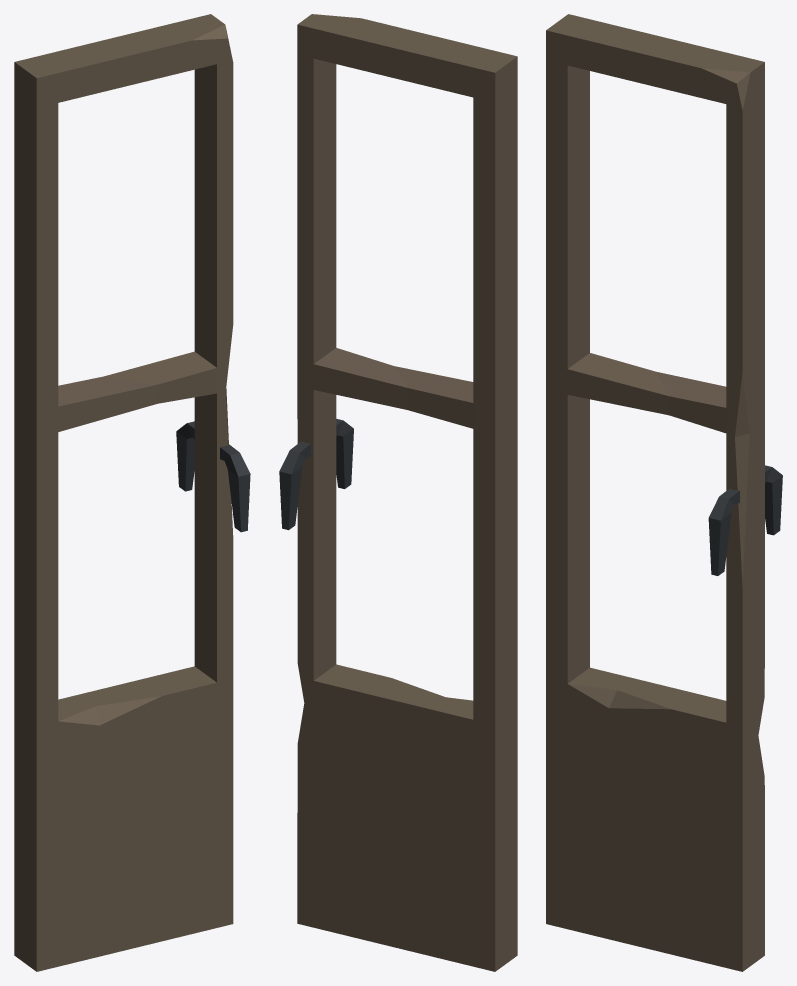
File: SM_Bld_Shop_Door_01_L.fbx
3 renders of one model, left to right at view 1: azimuth 30°, elevation 25°; view 2: azimuth 150°, elevation 25°; view 3: azimuth 330°, elevation 25°, orthographic.
Visible parts, largest first — view 1: SM_Bld_Shop_Door_01_L; view 2: SM_Bld_Shop_Door_01_L; view 3: SM_Bld_Shop_Door_01_L.
Part boxes in pixels (x1,y1,x2,y2): SM_Bld_Shop_Door_01_L: (14,14,250,971); SM_Bld_Shop_Door_01_L: (279,14,517,971); SM_Bld_Shop_Door_01_L: (546,14,782,971).
Bounding box in the file's own units: 51.21 × 222 × 28.05.
